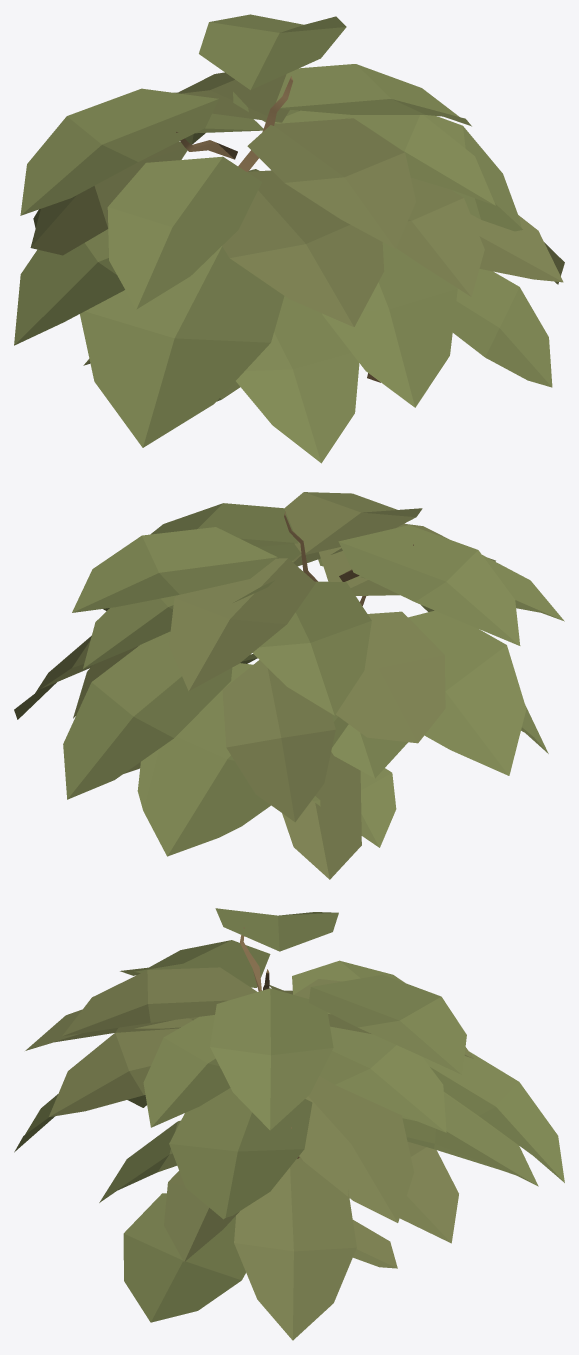
The model's file is Leave_Clump2.fbx.
3 views of the same model, one above another, from view 1: azimuth 30°, elevation 25°; view 2: azimuth 150°, elevation 25°; view 3: azimuth 270°, elevation 25° (orthographic). The views are drawn at different scales.
Visible parts, largest first — view 1: polySurface2; view 2: polySurface2; view 3: polySurface2.
Part boxes in pixels (x1,y1,x2,y2): polySurface2: (14, 14, 564, 463); polySurface2: (14, 492, 564, 879); polySurface2: (14, 908, 564, 1340).
Bounding box in the file's own units: 85.35 × 50.02 × 85.35.
